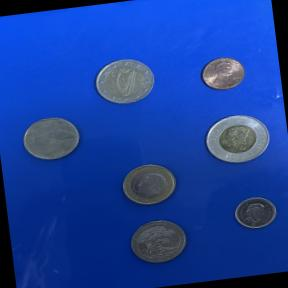1 Euro-B: (111, 156, 184, 216)
2 Euro-B: (88, 53, 162, 112)
Canada-10cent-B: (228, 192, 283, 236)
Canada-2Dollar-B: (194, 106, 280, 174)
Croatia-2Kune-B: (16, 110, 88, 168)
US-1cent-B: (192, 50, 251, 98)
US-25cent-B: (120, 212, 197, 273)
